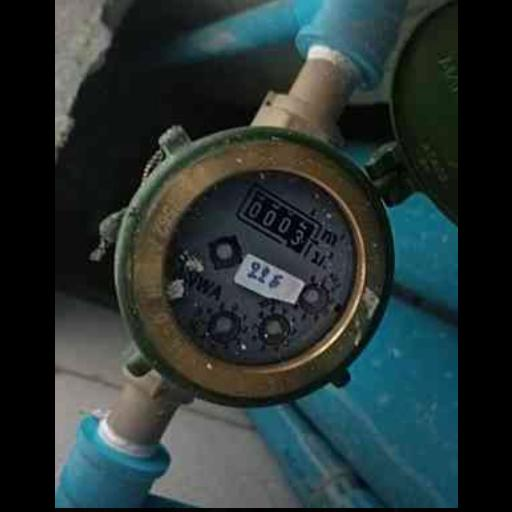0: (270, 207, 301, 241), (255, 198, 284, 232), (242, 191, 271, 224)
3: (283, 218, 315, 255)
border_water_meter_number: (232, 181, 324, 259)
